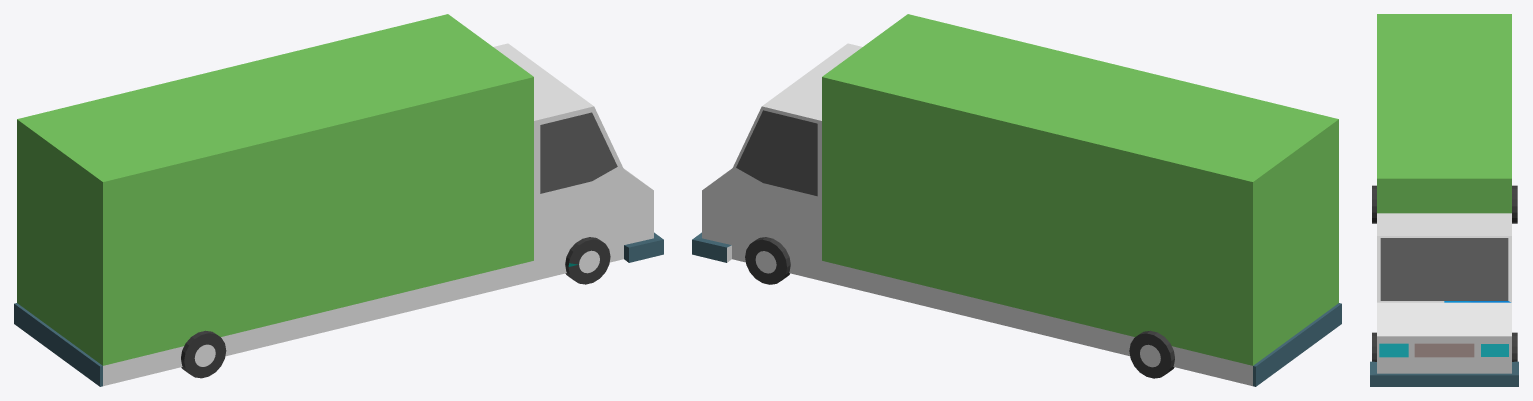
The model's file is Kamionce3x1Green.fbx.
The picture shows the model from 3 angles, left to right: view 1: azimuth 30°, elevation 25°; view 2: azimuth 150°, elevation 25°; view 3: azimuth 270°, elevation 25°; orthographic projection. The views are drawn at different scales.
Visible parts, largest first — view 1: Car_08_4; view 2: Car_08_4; view 3: Car_08_4.
Part boxes in pixels (left/top/right/bottom): Car_08_4: left=14, top=14, right=663, bottom=386; Car_08_4: left=692, top=14, right=1341, bottom=386; Car_08_4: left=1370, top=14, right=1518, bottom=386.
Bounding box in the file's own units: 2.98 × 1.1 × 0.8755.
Materials: 1 (1 with a texture image).
